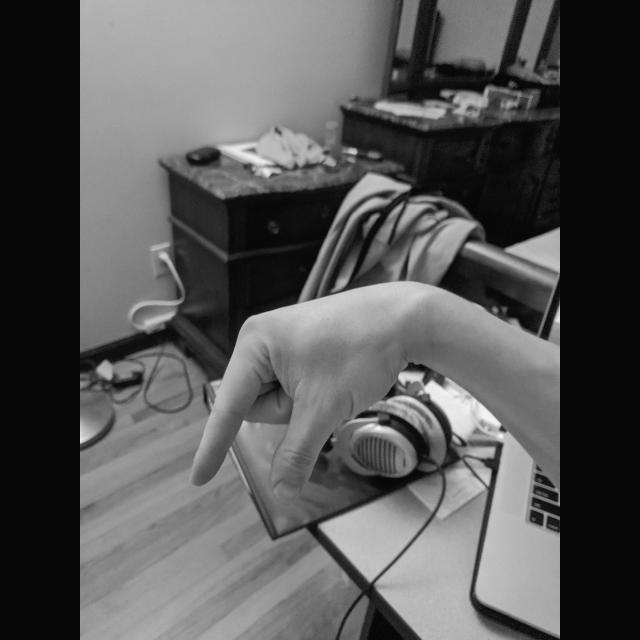Q: (186, 278, 412, 510)
